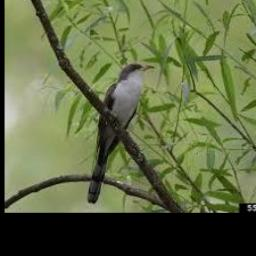Cuckoo: (86, 63, 154, 204)
